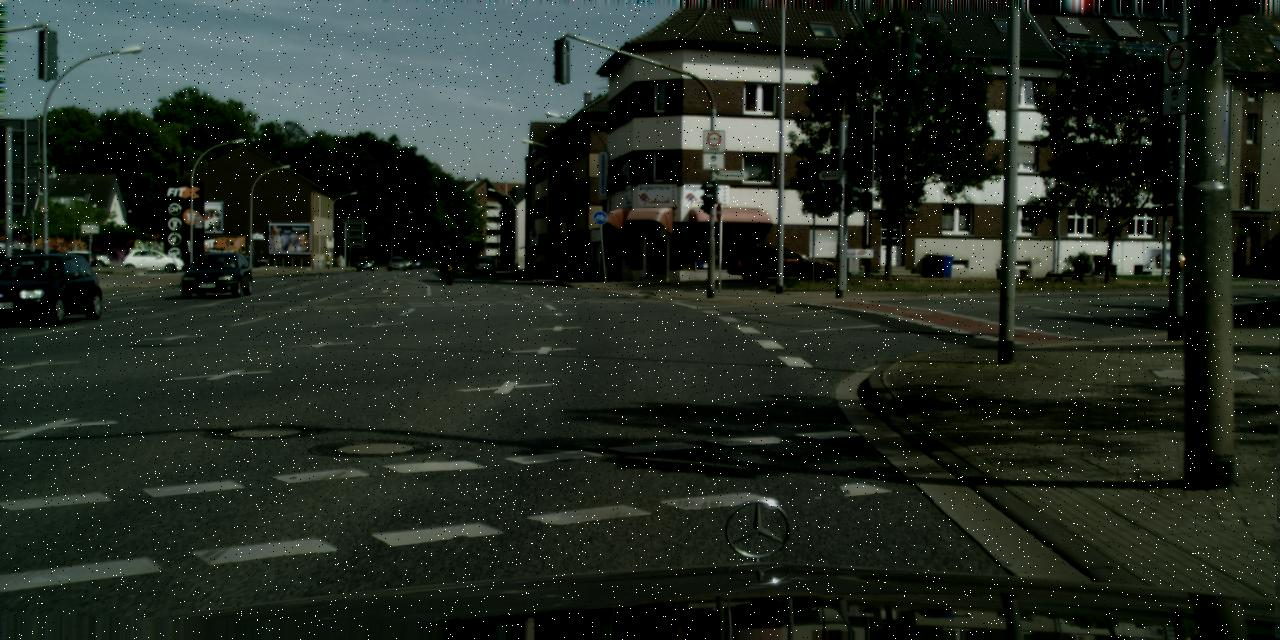ped: (442, 245, 455, 277)
